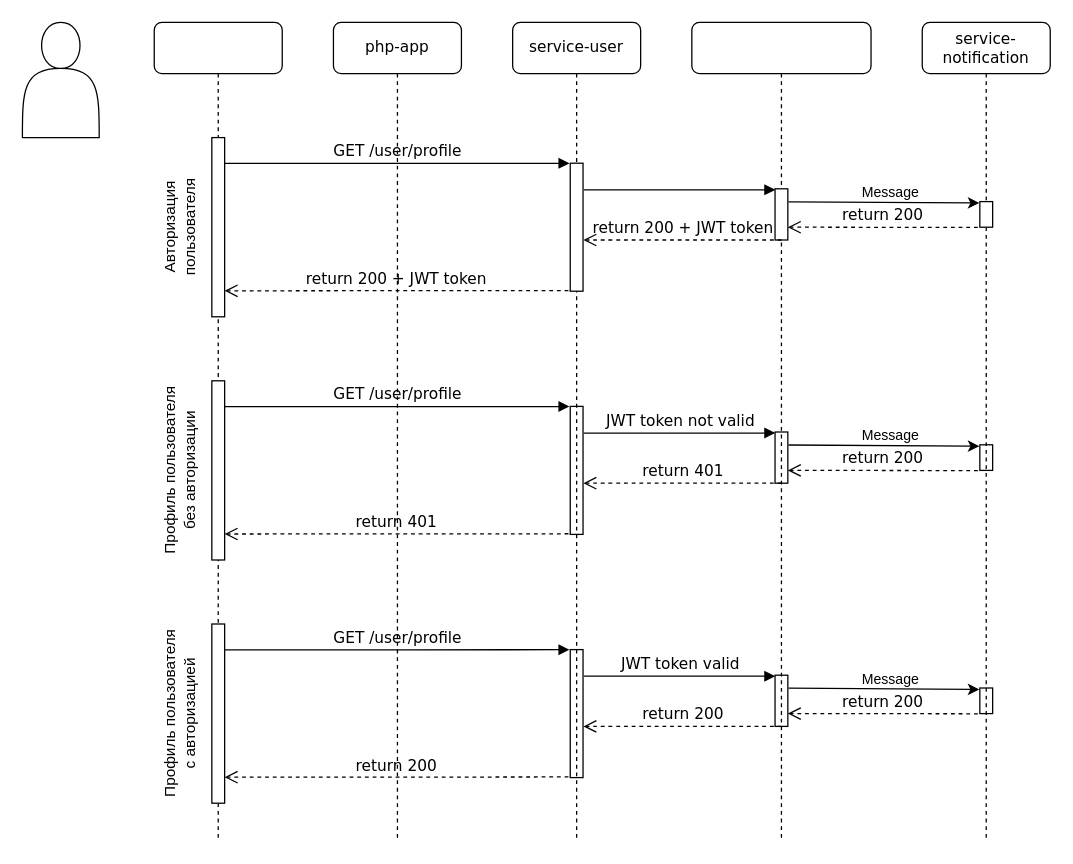
The diagram is 1073 pixels wide and 864 high, and some of its shapes have lost their labels. Here are the shapes that lost their labels. From the top down, the box of each, then its label:
(153, 21, 282, 842): ingress-nginx
(691, 21, 871, 842): service-auth
